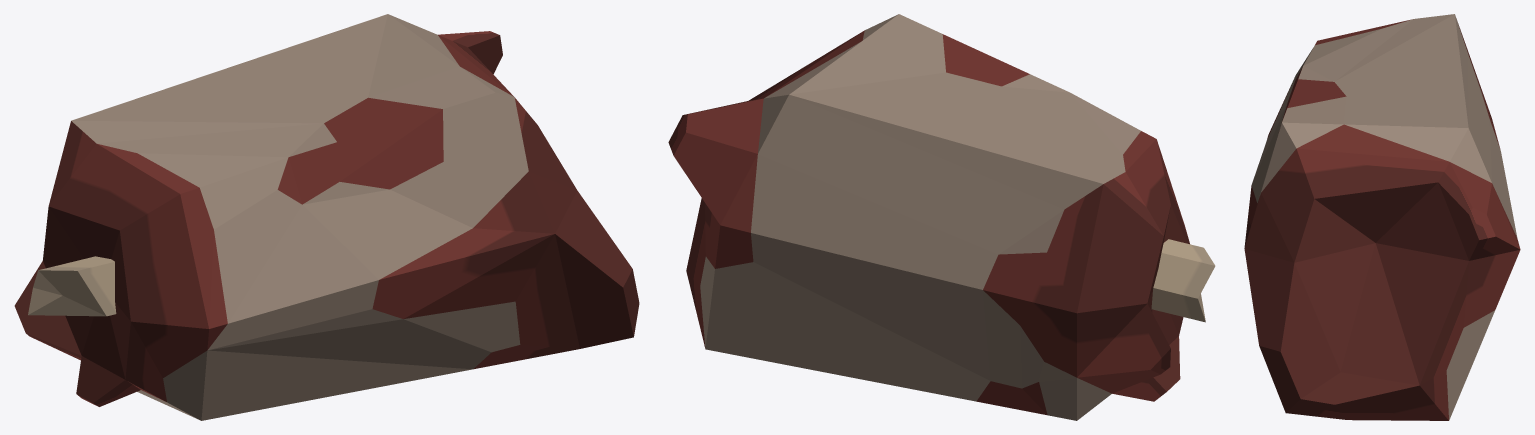
File: SM_Prop_Limb_03.fbx
3 views of the same model, side by side, from view 1: azimuth 30°, elevation 25°; view 2: azimuth 150°, elevation 25°; view 3: azimuth 270°, elevation 25° (orthographic). The views are drawn at different scales.
Parts seen in each view (by area): view 1: SM_Prop_Limb_03; view 2: SM_Prop_Limb_03; view 3: SM_Prop_Limb_03.
Boxes of the visible parts, box(x1,y1,x2,y2) form: SM_Prop_Limb_03: box(14, 14, 639, 420); SM_Prop_Limb_03: box(668, 14, 1215, 420); SM_Prop_Limb_03: box(1244, 14, 1520, 420).
Bounding box in the file's own units: 24.29 × 12.84 × 12.56.
